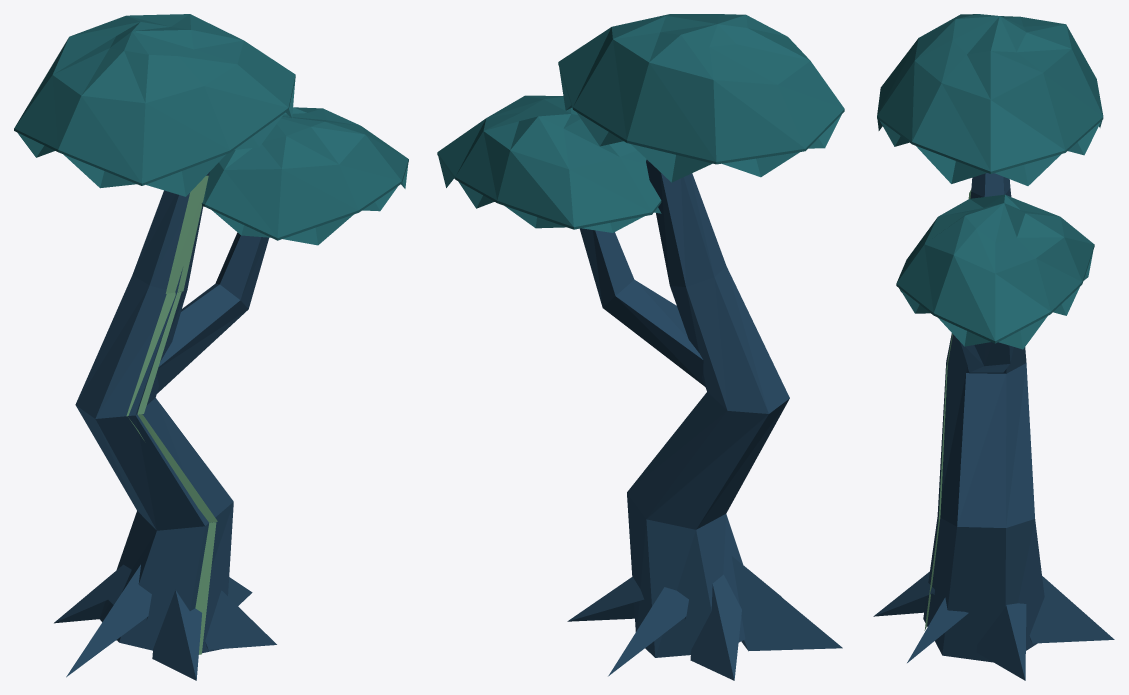
The picture shows the model from 3 angles, left to right: view 1: azimuth 30°, elevation 25°; view 2: azimuth 150°, elevation 25°; view 3: azimuth 270°, elevation 25°; orthographic projection. The views are drawn at different scales.
Visible parts, largest first — view 1: Tree_Library_B; view 2: Tree_Library_B; view 3: Tree_Library_B.
Boxes of the visible parts, box(x1,y1,x2,y2) form: Tree_Library_B: box(14, 14, 408, 680); Tree_Library_B: box(437, 14, 844, 680); Tree_Library_B: box(873, 14, 1114, 680).
Bounding box in the file's own units: 0.9682 × 1.51 × 0.542.
